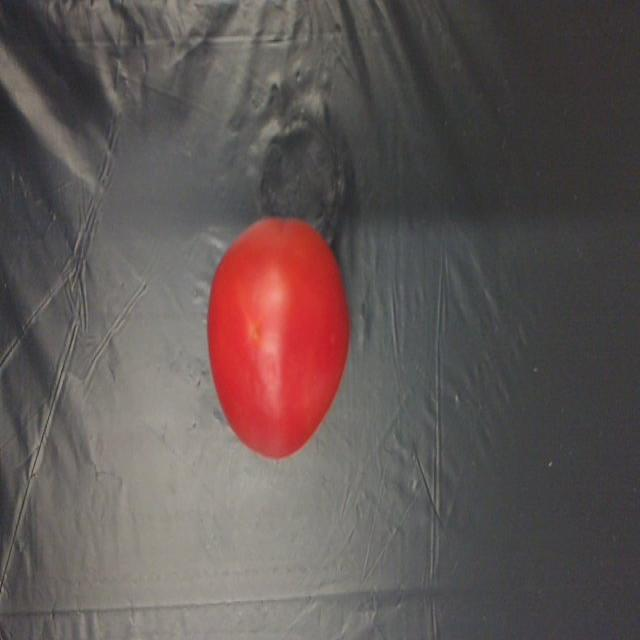kirmizi: (206, 204, 356, 466)
